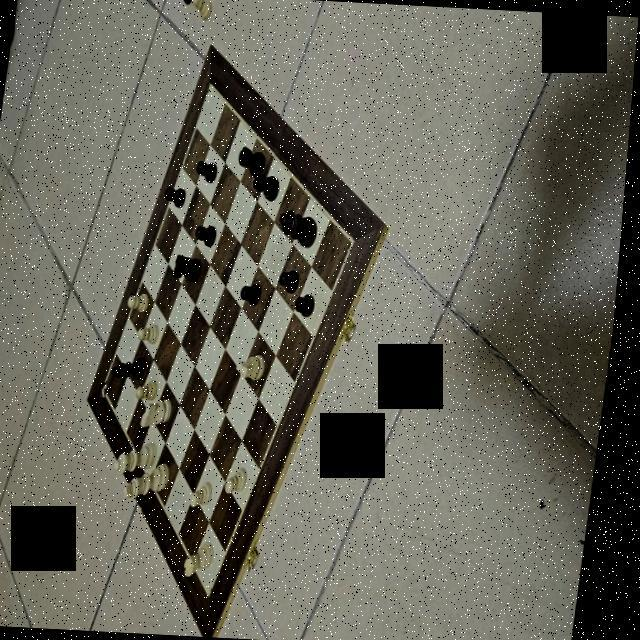chess-table-corners: (351, 234, 361, 250), (215, 586, 224, 602), (206, 78, 216, 92), (106, 382, 114, 396)
